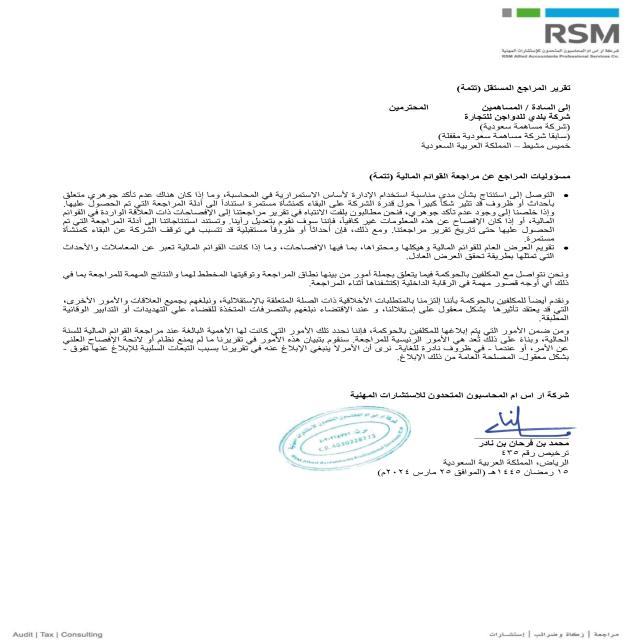auditor_report: (363, 170, 593, 188), (439, 80, 582, 96)
